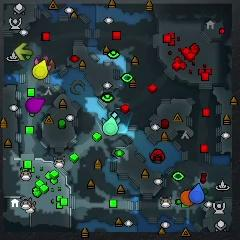p1: (189, 183, 205, 204)
p2: (103, 116, 118, 136)
p3: (26, 97, 45, 113)
p4: (32, 60, 47, 80)
p5: (180, 190, 194, 206)
x1: (34, 56, 51, 69)
x2: (14, 42, 33, 60)
x3: (102, 111, 120, 125)
